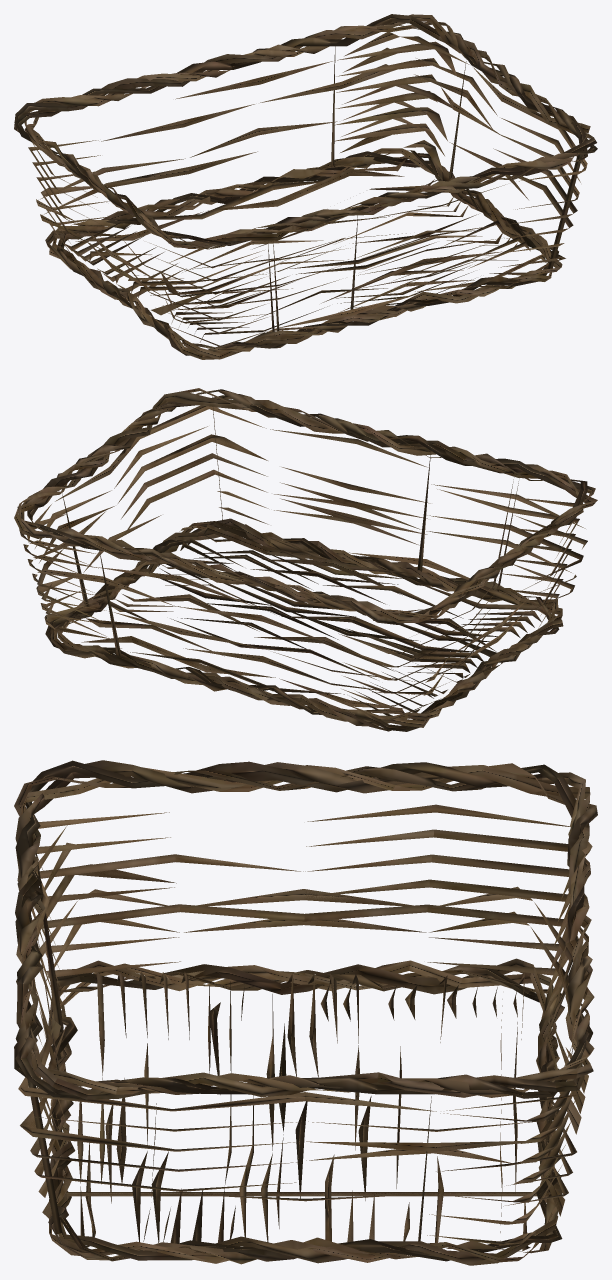
Rendered from wicker_basket_01.glb.
3 renders of one model, top to bottom at view 1: azimuth 30°, elevation 25°; view 2: azimuth 150°, elevation 25°; view 3: azimuth 270°, elevation 25°, orthographic. The views are drawn at different scales.
Parts seen in each view (by area): view 1: wicker_basket_01; view 2: wicker_basket_01; view 3: wicker_basket_01.
Part boxes in pixels (x1,y1,x2,y2): wicker_basket_01: [14, 14, 597, 359]; wicker_basket_01: [14, 388, 597, 731]; wicker_basket_01: [14, 760, 597, 1265].
Size of the model in its own units: 0.383 by 0.1174 by 0.2929.
Materials: 1 (1 with a texture image).
